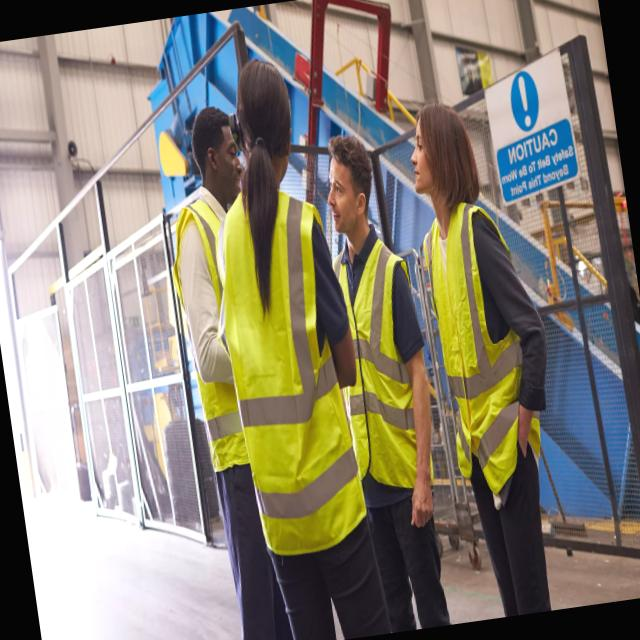no-goggles: (324, 170, 370, 212), (408, 136, 431, 165)
no-helmet: (229, 45, 302, 144), (404, 93, 482, 173), (316, 124, 384, 203), (178, 102, 238, 170)
vest: (204, 180, 372, 566), (419, 194, 550, 511), (320, 232, 444, 498), (158, 187, 260, 488)
